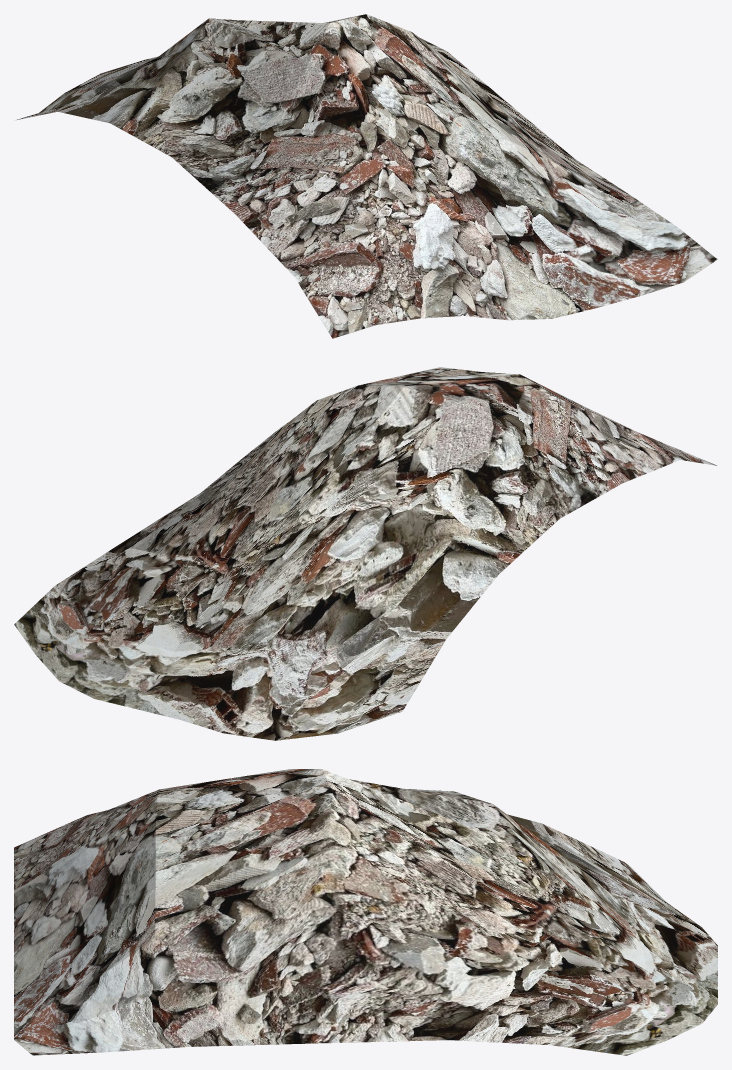
The picture shows the model from 3 angles, top to bottom: view 1: azimuth 30°, elevation 25°; view 2: azimuth 150°, elevation 25°; view 3: azimuth 270°, elevation 25°; orthographic projection. The views are drawn at different scales.
Visible parts, largest first — view 1: Plane.002; view 2: Plane.002; view 3: Plane.002.
Part boxes in pixels (x1,y1,x2,y2): Plane.002: (17, 14, 717, 338); Plane.002: (14, 367, 716, 740); Plane.002: (14, 769, 717, 1055).
Bounding box in the file's own units: 2 × 0.9582 × 3.22.
1 material, 1 textured.
